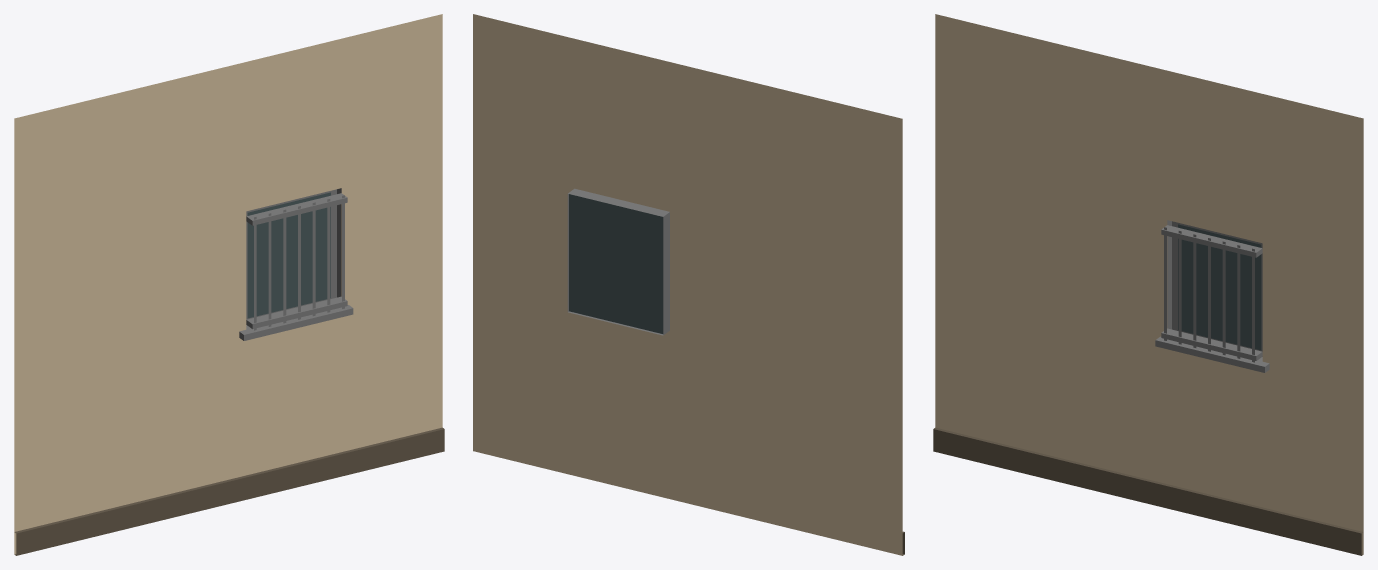
File: top-w4.fbx
3 renders of one model, left to right at view 1: azimuth 30°, elevation 25°; view 2: azimuth 150°, elevation 25°; view 3: azimuth 330°, elevation 25°, orthographic.
Visible parts, largest first — view 1: a2000/400/top-w4; view 2: a2000/400/top-w4; view 3: a2000/400/top-w4.
Boxes of the visible parts, x1=… form: a2000/400/top-w4: x1=14, y1=14, x2=444, y2=555; a2000/400/top-w4: x1=473, y1=14, x2=904, y2=555; a2000/400/top-w4: x1=933, y1=14, x2=1363, y2=555.
Size of the model in its own units: 3.6 by 3.5 by 0.19.
